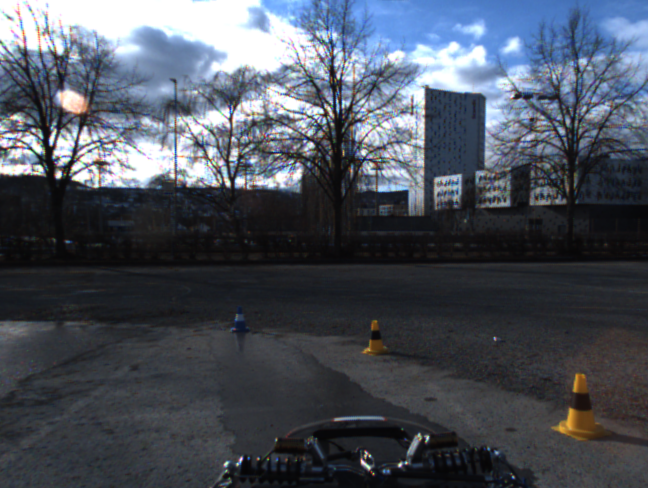cone-small-blue: (230, 306, 250, 332)
cone-small-yellow: (551, 373, 614, 441), (361, 320, 390, 356)
